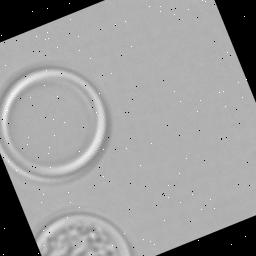picoshell: (0, 67, 110, 183), (35, 213, 132, 256)
